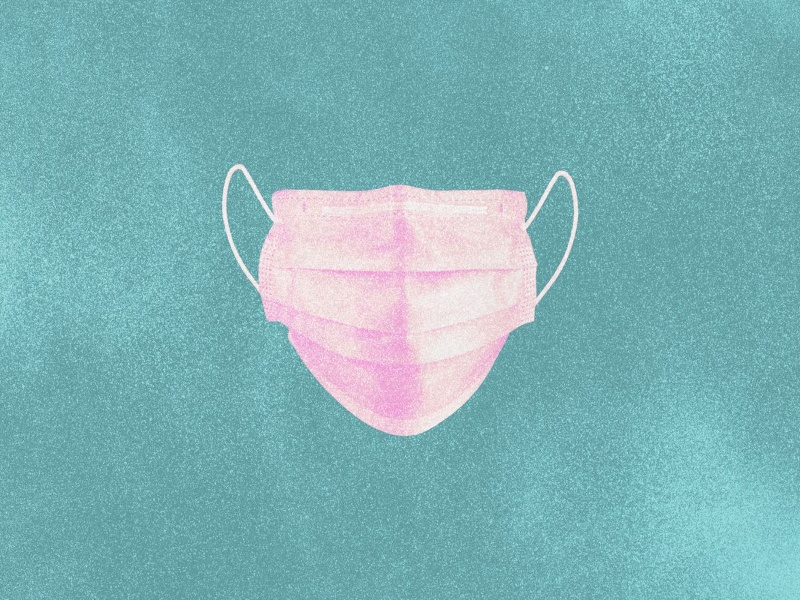mask: (256, 181, 541, 440)
